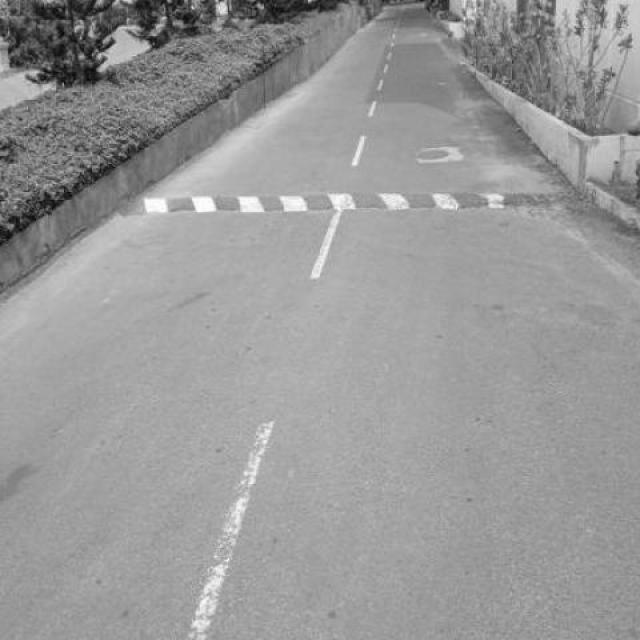Manhole: (414, 145, 451, 163)
Pothole: (488, 299, 504, 312)
Speed Bump: (109, 189, 584, 219)
